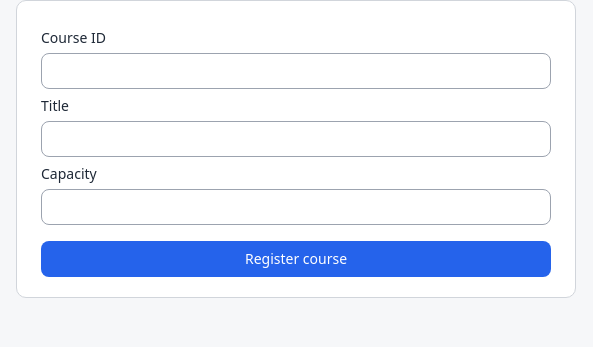
Test: Register Course › asks for the capacity when it's missing, without sending
In the field labelled "Course ID": (296, 71) [41, 53, 551, 89], type "c1"
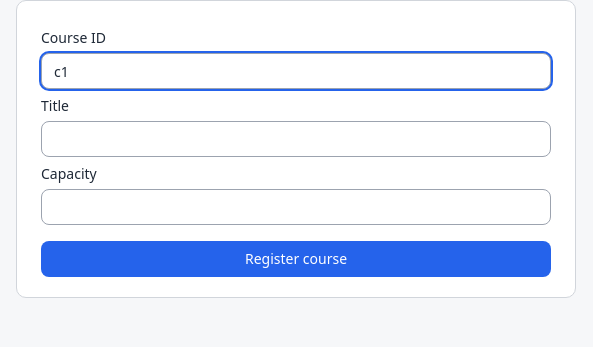
In the field labelled "Title": (296, 139) [41, 121, 551, 157], type "Math"
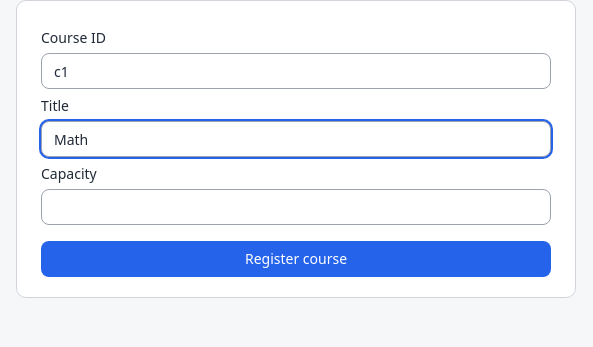
Click the button "Register course": (296, 259) [41, 241, 551, 277]
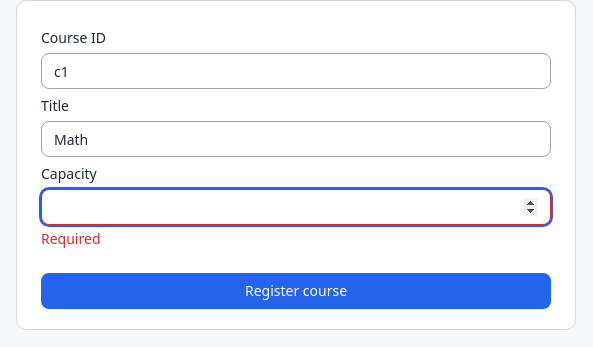
Result: the text "Required" is shown at [41, 229, 100, 248]
